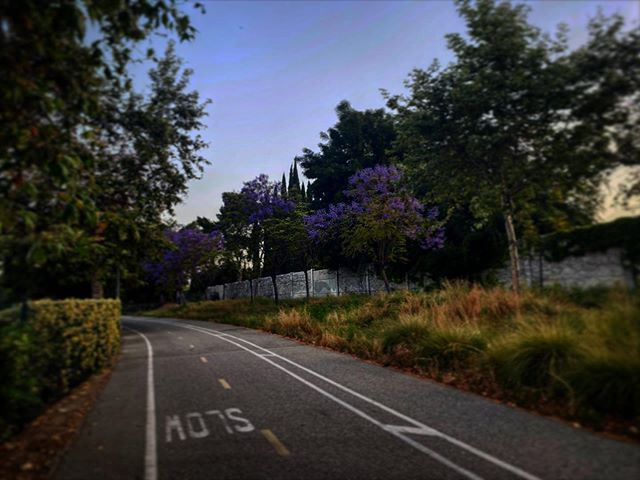sky: (205, 1, 432, 160)
street: (55, 314, 593, 480)
tree: (1, 1, 191, 296)
vegetation: (158, 43, 640, 284)
